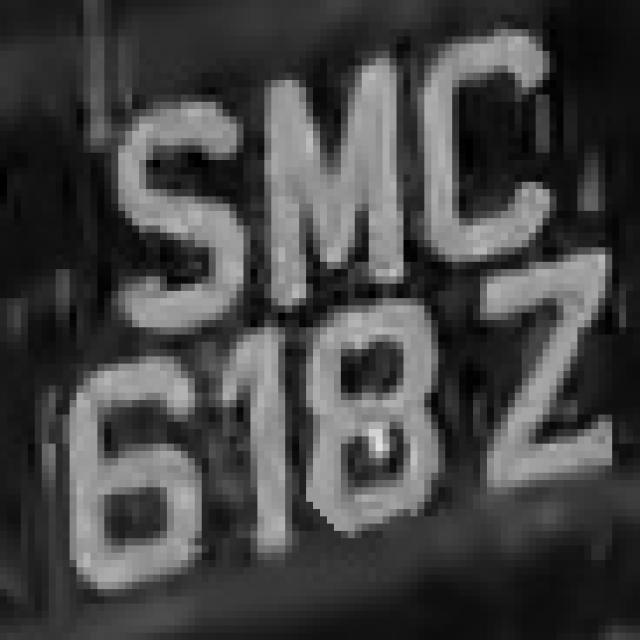1: (209, 320, 334, 575)
6: (48, 342, 215, 604)
8: (271, 305, 452, 553)
C: (397, 29, 570, 276)
M: (230, 58, 410, 306)
S: (90, 94, 264, 334)
Z: (452, 254, 626, 502)
